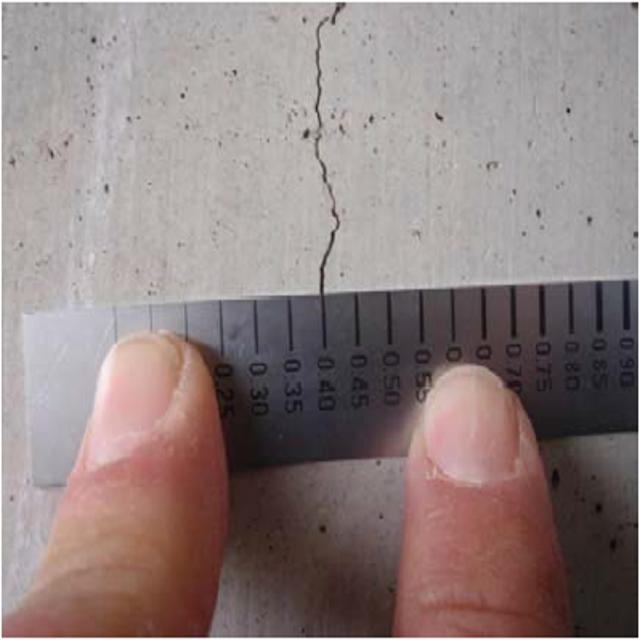crack: (298, 3, 366, 286)
